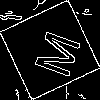M: (25, 25, 82, 80)
